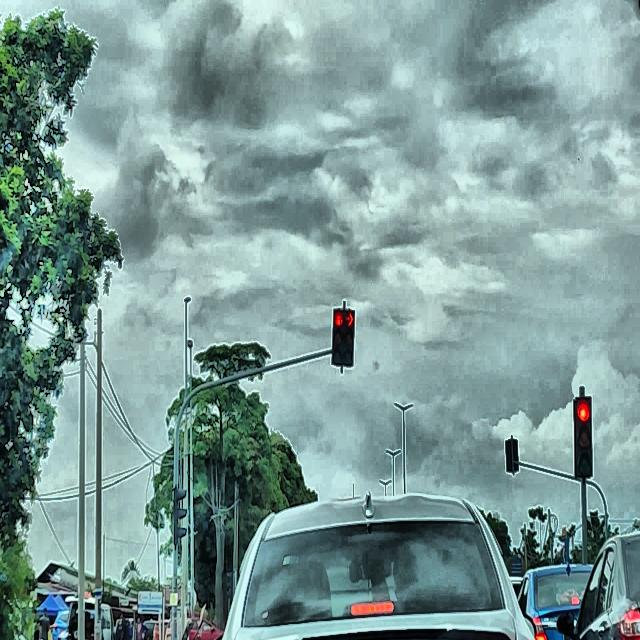red: (574, 397, 592, 477), (343, 311, 355, 366), (332, 308, 343, 366)
